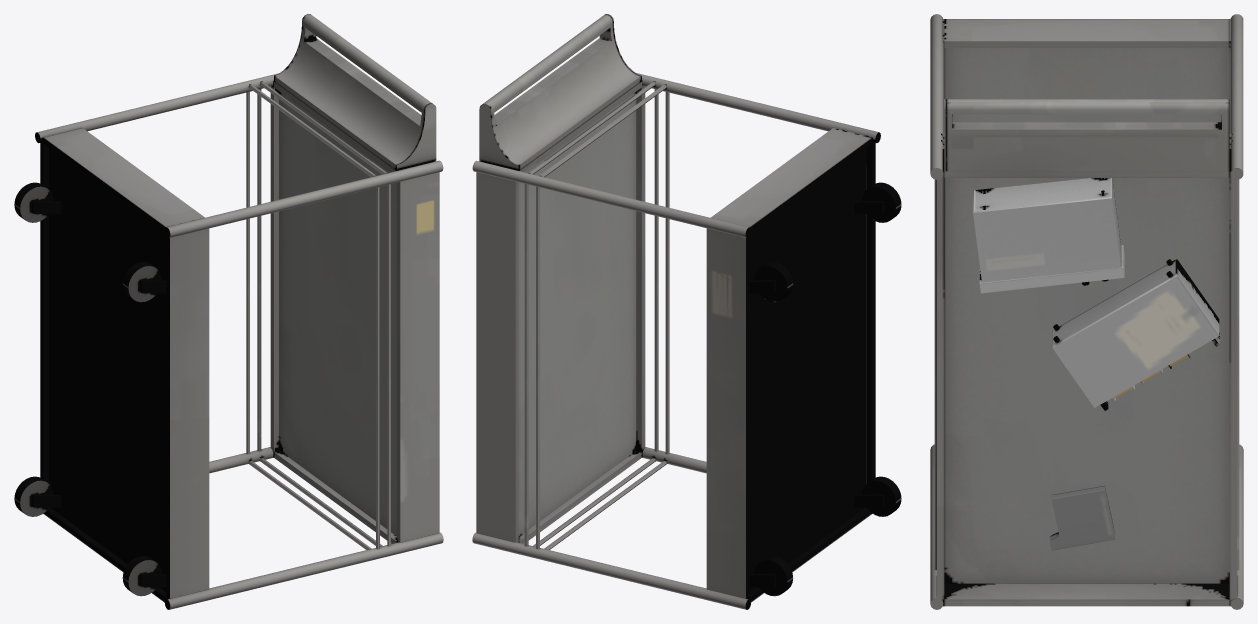
Rendered from props_well_computer_cart02.glb.
3 renders of one model, left to right at view 1: azimuth 30°, elevation 25°; view 2: azimuth 150°, elevation 25°; view 3: azimuth 270°, elevation 25°, orthographic. The views are drawn at different scales.
Parts seen in each view (by area): view 1: models/props_well/computer_cart02; view 2: models/props_well/computer_cart02; view 3: models/props_well/computer_cart02.
Part boxes in pixels (left/top/right/bottom): models/props_well/computer_cart02: left=14, top=14, right=443, bottom=609; models/props_well/computer_cart02: left=472, top=14, right=901, bottom=609; models/props_well/computer_cart02: left=930, top=14, right=1243, bottom=609.
Size of the model in its own units: 56.22 by 74.49 by 41.75.
1 material, 1 textured.
